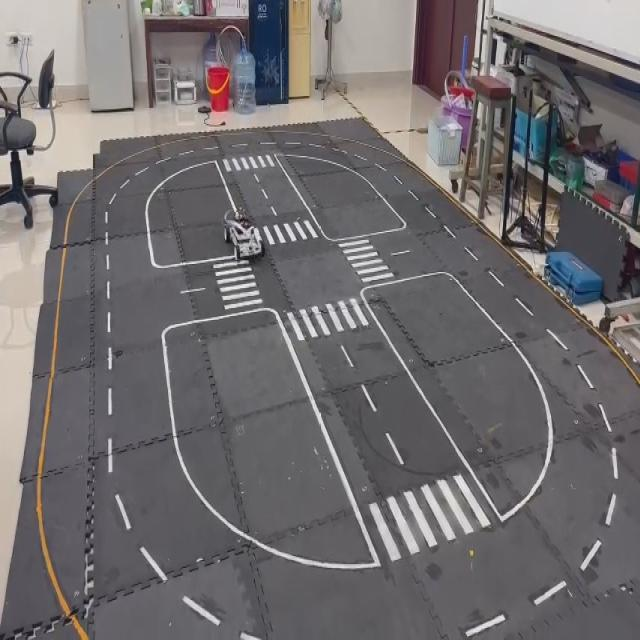SiCo-CAR: (221, 206, 265, 262)
